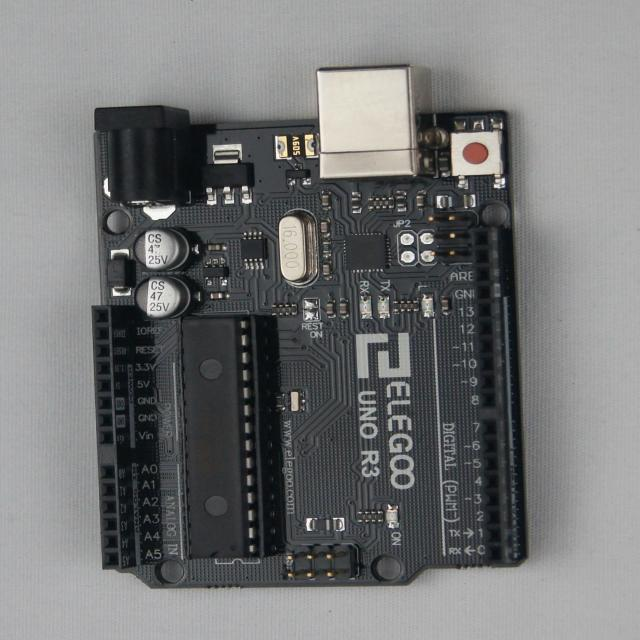Arduino Uno -Black-: (93, 66, 525, 587)
